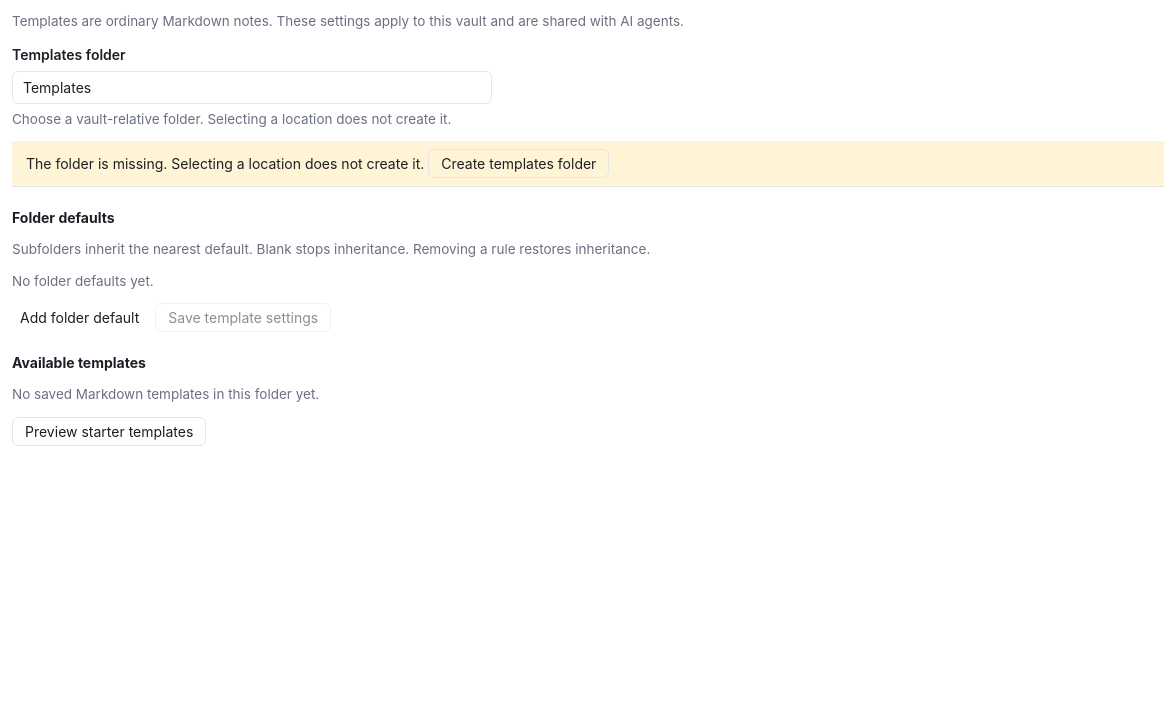
an install awaiting folder creation stops when the vault changes
The width and height of the screenshot is (1164, 720).
Click the button "Preview starter templates": {"x": 109, "y": 431} top-left (12, 417), bottom-right (206, 446)
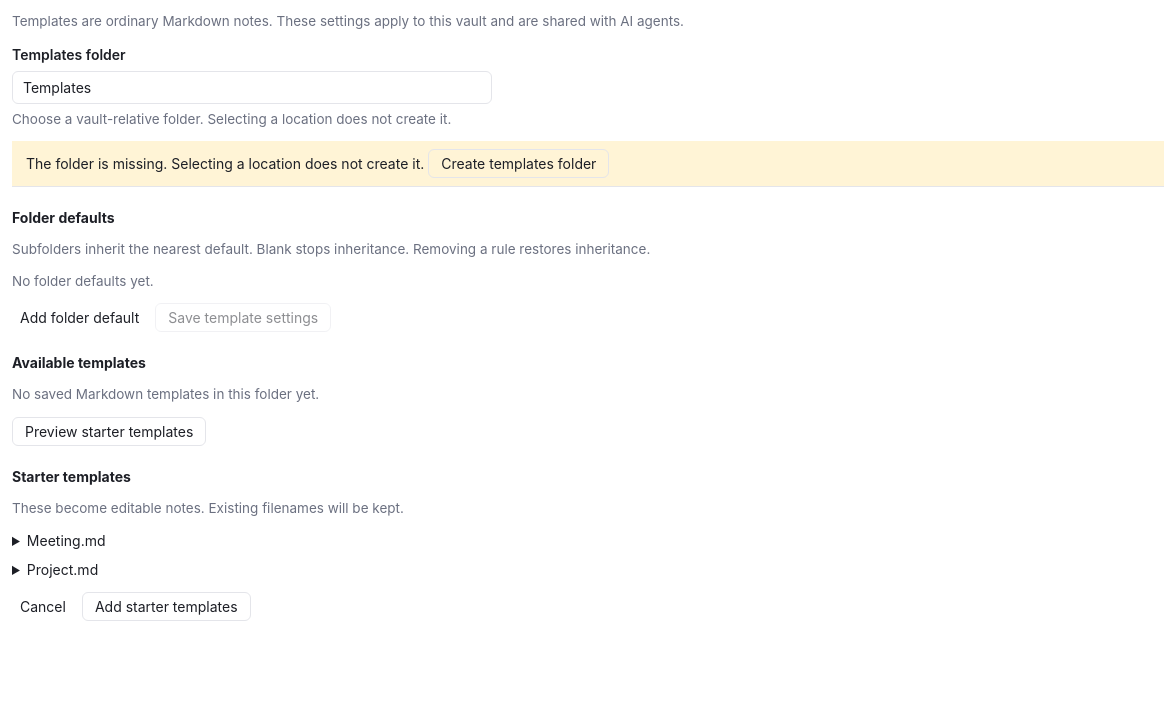
Click the button "Add starter templates": {"x": 166, "y": 607} top-left (82, 592), bottom-right (250, 621)
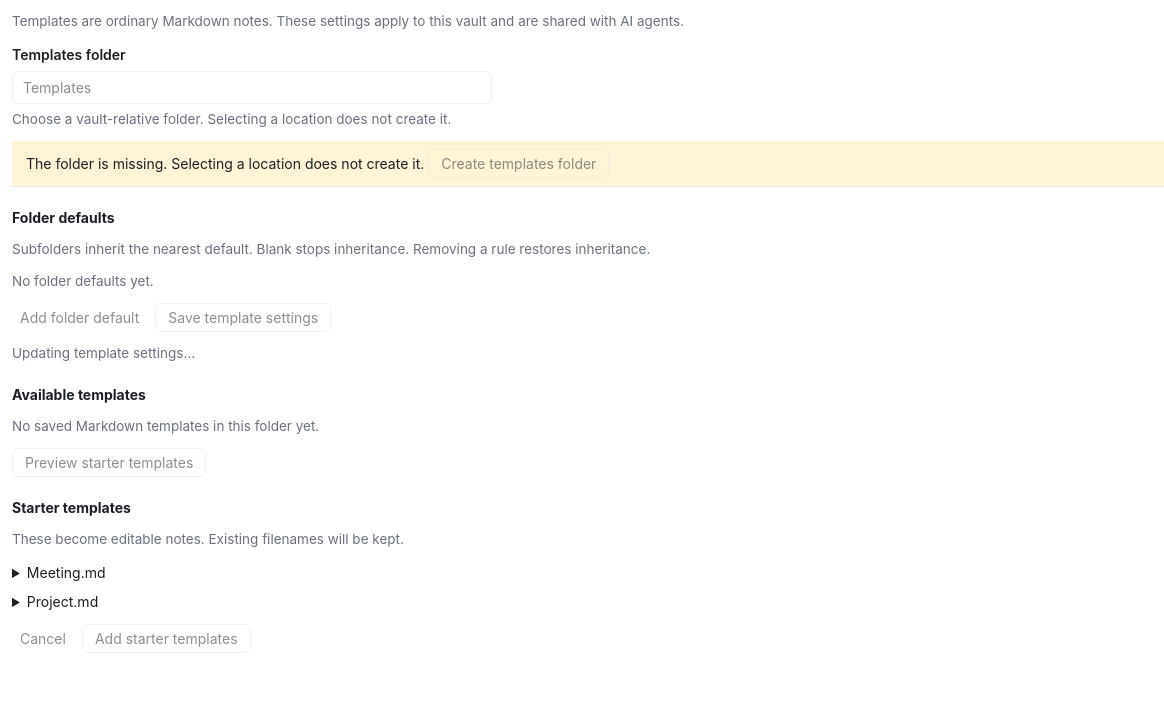
expect the button "Add folder default" is disabled: met, box top-left (12, 305), bottom-right (147, 330)
